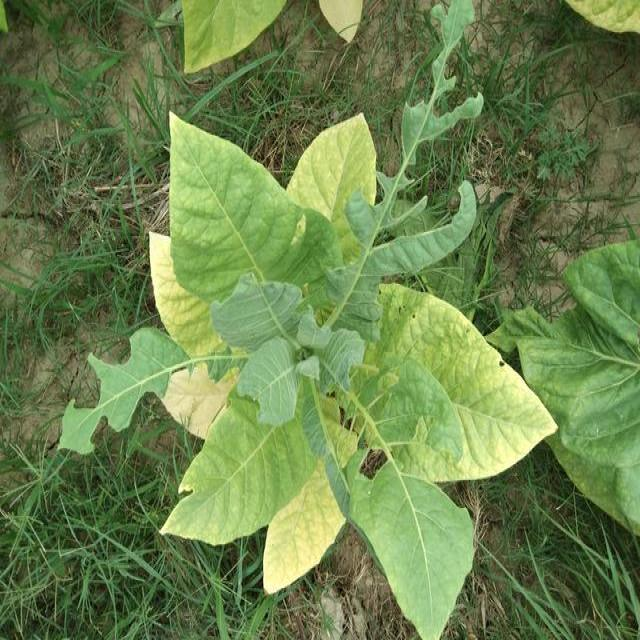crop: (138, 102, 562, 640)
